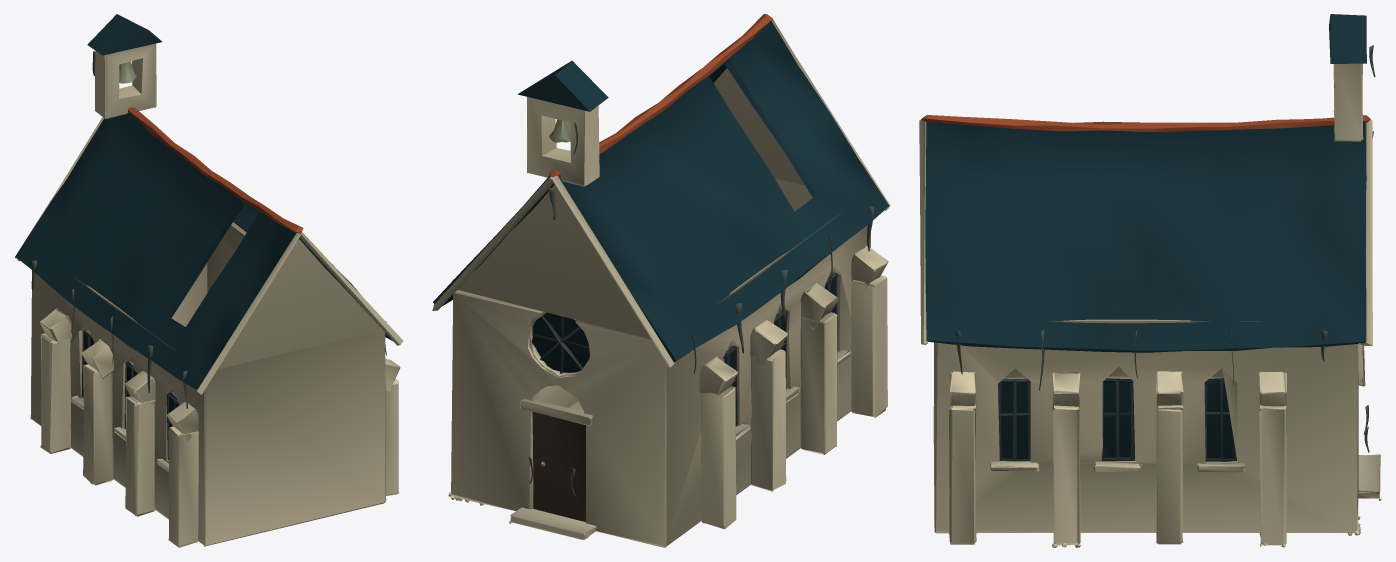
File: town_chapel.glb
3 views of the same model, side by side, from view 1: azimuth 30°, elevation 25°; view 2: azimuth 150°, elevation 25°; view 3: azimuth 270°, elevation 25° (orthographic). The views are drawn at different scales.
Visible parts, largest first — view 1: town_chapel; view 2: town_chapel; view 3: town_chapel.
Boxes of the visible parts, x1,y1,x2,y2 form: town_chapel: (14, 14, 403, 547); town_chapel: (432, 14, 890, 547); town_chapel: (919, 14, 1381, 547).
Size of the model in its own units: 6.73 by 10.99 by 9.84.
